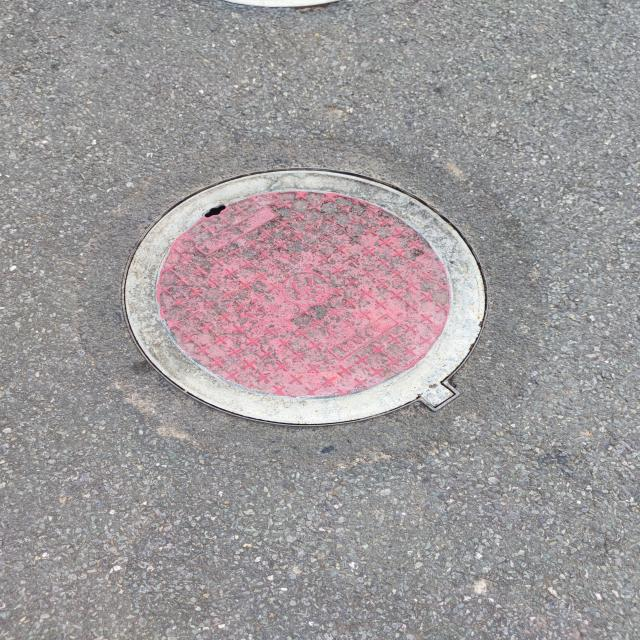Good: (114, 165, 495, 431)
